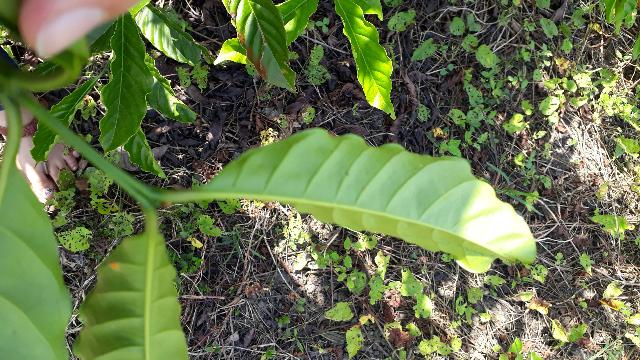healthy: (106, 84, 447, 231)
